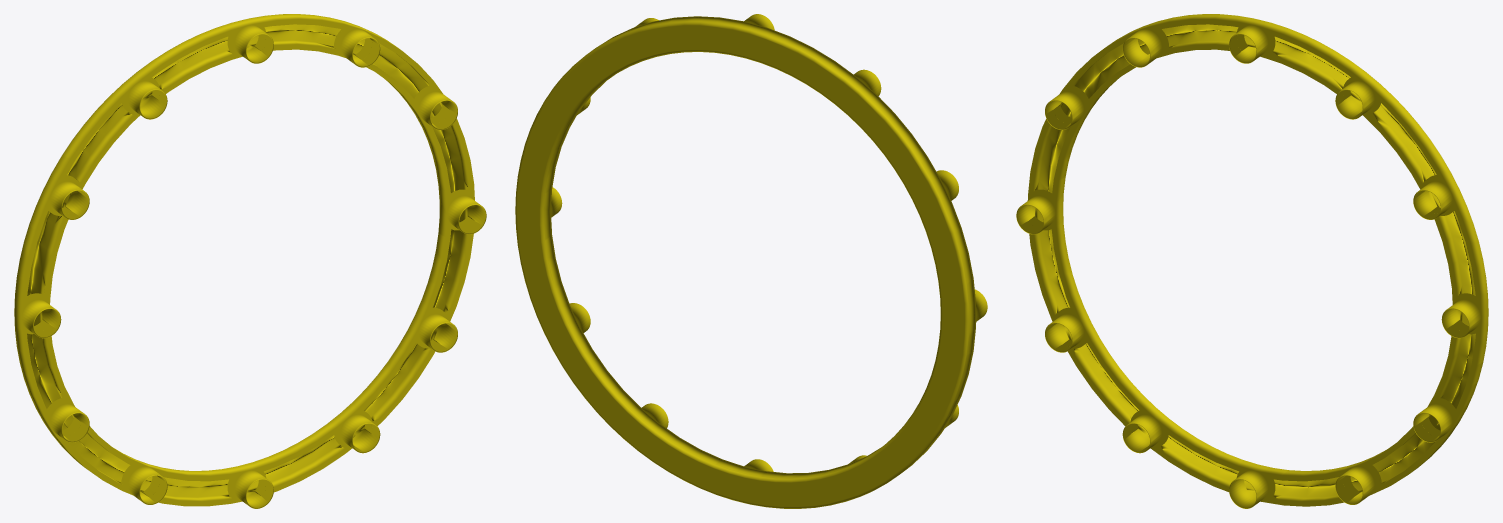
Rendered from Propellant Injector.obj.
The picture shows the model from 3 angles, left to right: view 1: azimuth 30°, elevation 25°; view 2: azimuth 150°, elevation 25°; view 3: azimuth 330°, elevation 25°; orthographic projection.
Parts seen in each view (by area): view 1: Propellant_Injector; view 2: Propellant_Injector; view 3: Propellant_Injector.
Part boxes in pixels (<box>): Propellant_Injector: <box>14,14,486,508</box>; Propellant_Injector: <box>515,14,987,508</box>; Propellant_Injector: <box>1016,14,1488,508</box>.
Bounding box in the file's own units: 50.92 × 50.92 × 3.84.
